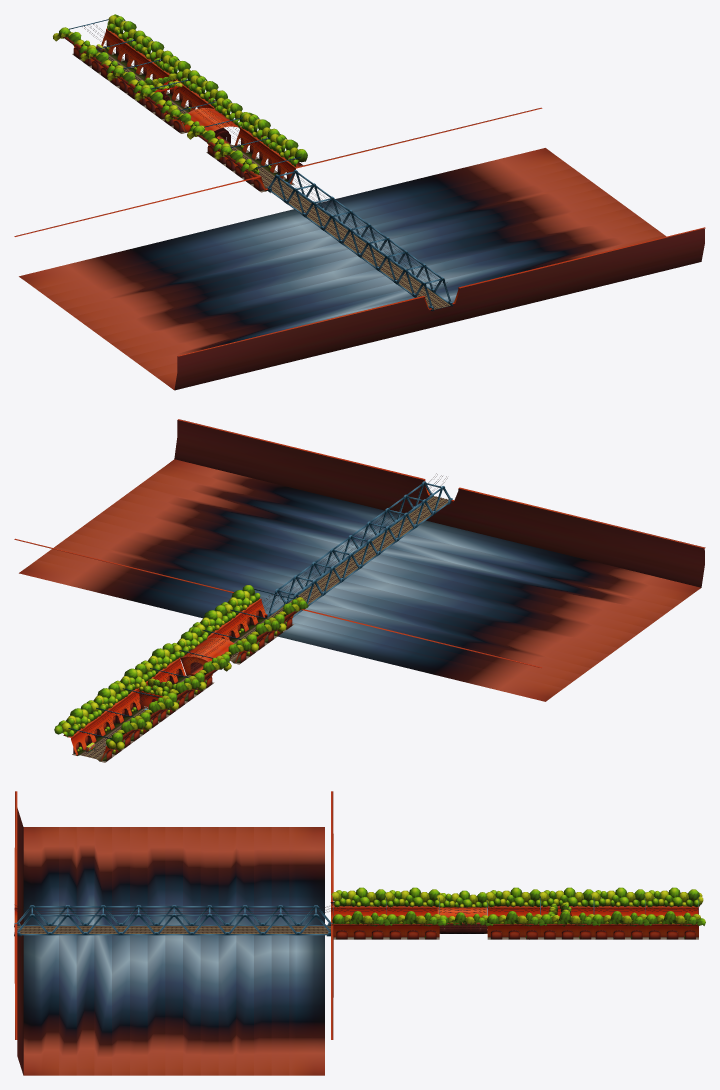
Rendered from MapSub2.glb.
3 views of the same model, one above another, from view 1: azimuth 30°, elevation 25°; view 2: azimuth 150°, elevation 25°; view 3: azimuth 270°, elevation 25° (orthographic). The views are drawn at different scales.
Visible parts, largest first — view 1: subway surfers; view 2: subway surfers; view 3: subway surfers.
Part boxes in pixels (bbox=[...]): subway surfers: bbox=[14, 14, 705, 390]; subway surfers: bbox=[14, 419, 705, 762]; subway surfers: bbox=[14, 791, 705, 1075].
Size of the model in its own units: 377 by 36.56 by 443.
8 materials, 8 textured.
